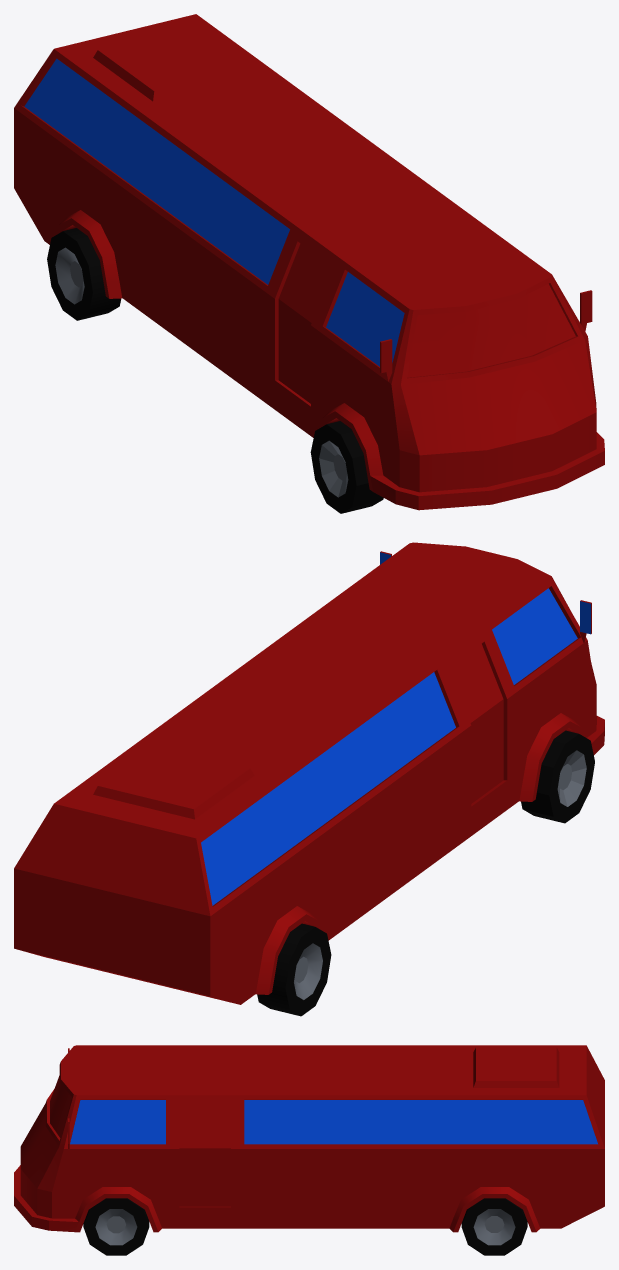
File: autobus_4.FBX
3 views of the same model, one above another, from view 1: azimuth 30°, elevation 25°; view 2: azimuth 150°, elevation 25°; view 3: azimuth 270°, elevation 25° (orthographic). The views are drawn at different scales.
Visible parts, largest first — view 1: Autobus; view 2: Autobus; view 3: Autobus.
Part boxes in pixels (x1,y1,x2,y2): Autobus: [14, 14, 604, 513]; Autobus: [14, 542, 604, 1016]; Autobus: [14, 1045, 604, 1255].
Size of the model in its own units: 127 by 115 by 398.
